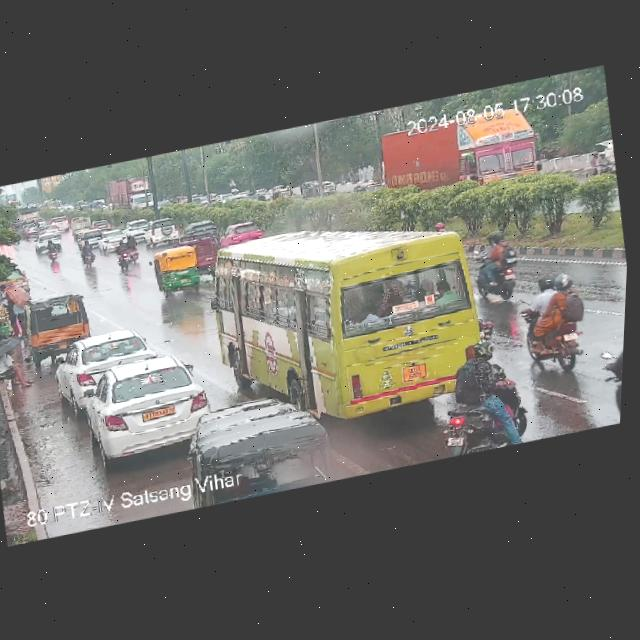bus: (193, 187, 510, 446)
car: (63, 355, 218, 480), (43, 315, 165, 419), (20, 285, 103, 371), (143, 238, 214, 302), (173, 229, 224, 275), (218, 209, 264, 248), (140, 215, 184, 249), (180, 211, 219, 247), (590, 130, 618, 178), (33, 231, 66, 259), (268, 180, 298, 210), (39, 220, 67, 243), (125, 218, 150, 243), (88, 216, 117, 237), (320, 176, 344, 201), (100, 229, 122, 255), (354, 178, 385, 196), (48, 211, 69, 235), (213, 193, 230, 208), (257, 186, 272, 202)
motorcycle: (430, 326, 541, 456), (512, 266, 603, 372), (460, 210, 531, 317), (585, 305, 625, 427), (580, 147, 618, 186), (122, 227, 150, 268), (77, 233, 103, 271), (44, 232, 69, 267), (115, 236, 137, 272), (20, 225, 35, 242), (0, 236, 7, 255)
person: (0, 333, 33, 392), (9, 283, 39, 345), (0, 283, 13, 314)
truck: (369, 83, 544, 209), (104, 161, 167, 220), (15, 200, 45, 224), (69, 212, 93, 237)
